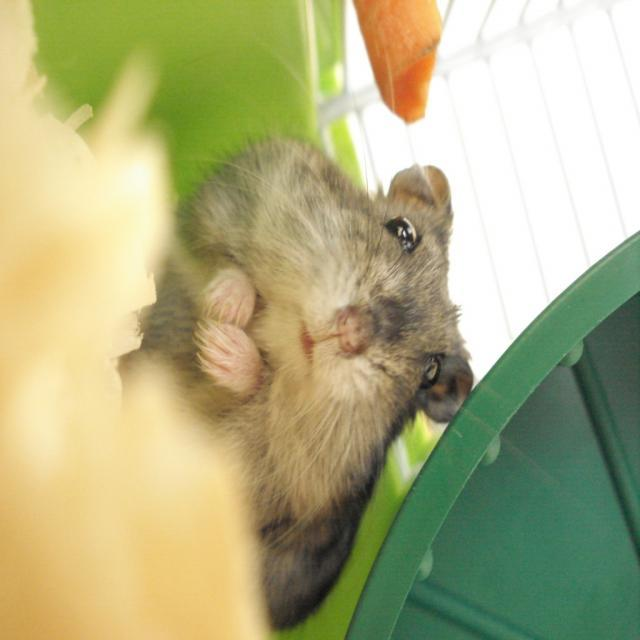rat: (116, 133, 474, 634)
